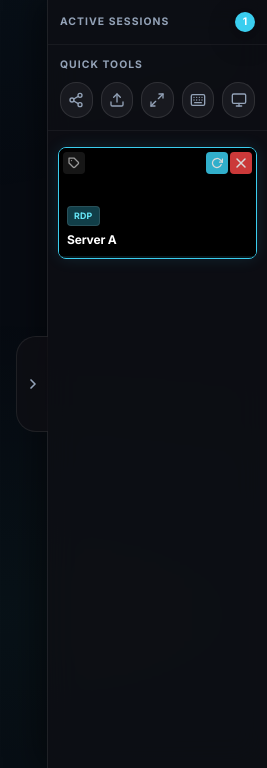
Test: SessionBar › opens share popover on share click and shows mode buttons
What coordinates should you click on to do the following:
click the button titled "Share connection"
I would click on:
 (76, 100)
Its box is [60,82,93,118].
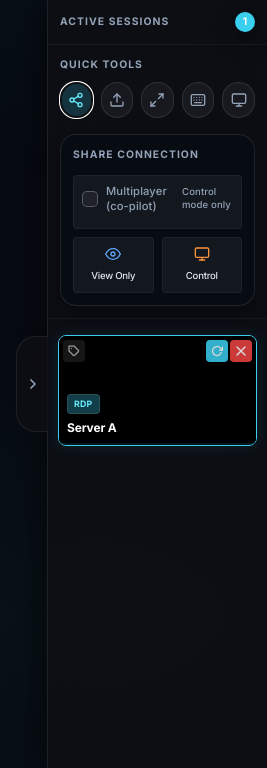
expect the text "View Only" is shown: met, box [91,268,135,284]
expect the text "Control" is shown: met, box [186,268,218,284]
